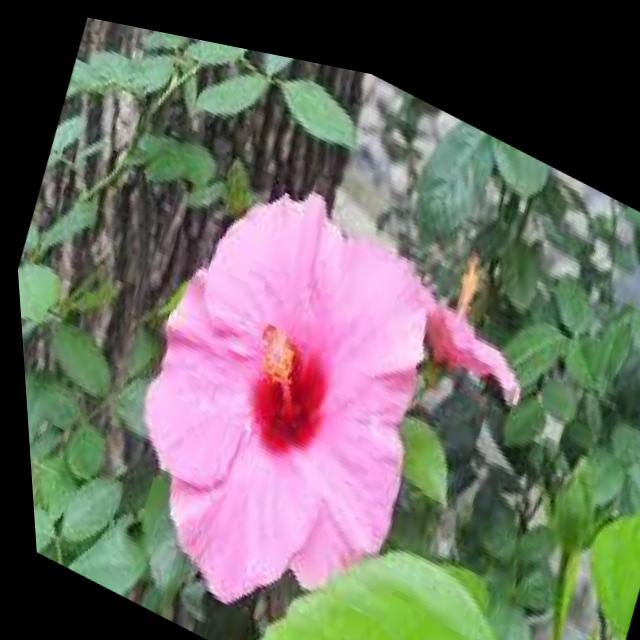Flower: (80, 100, 502, 640)
